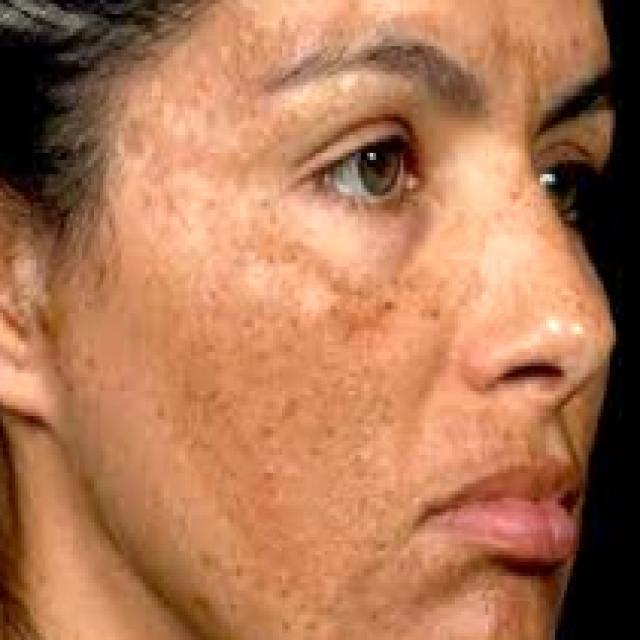Melasma: (118, 8, 419, 615), (460, 12, 580, 106)
